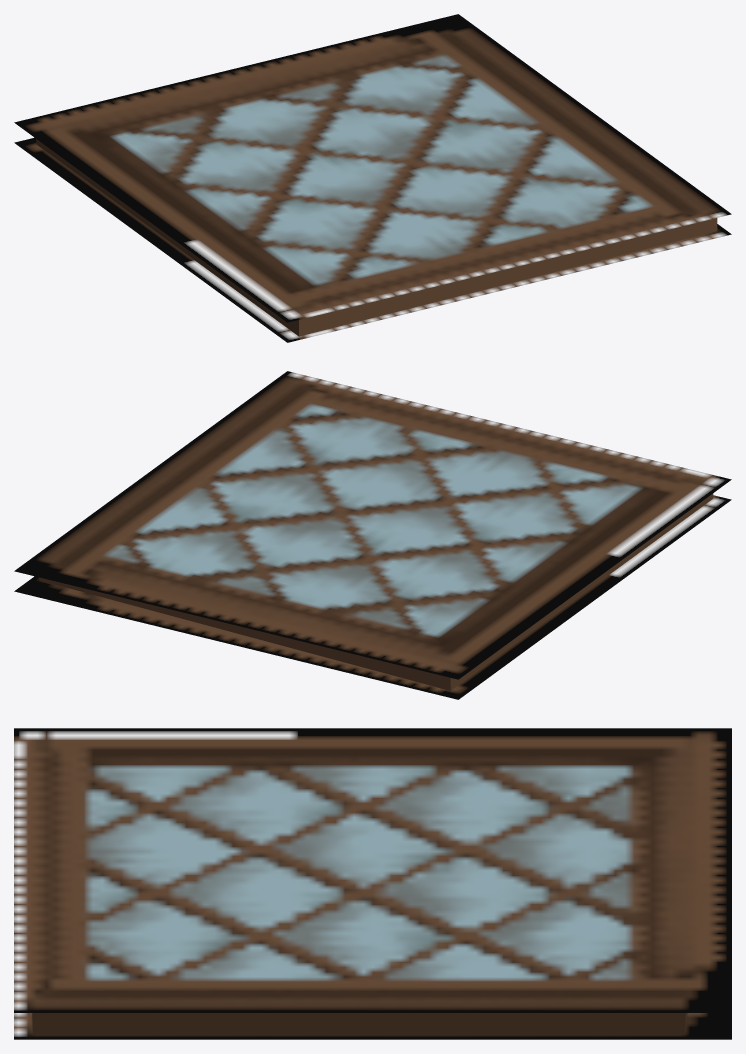
File: pz_native_fixtures_windows_church_29_frame.obj
The picture shows the model from 3 angles, top to bottom: view 1: azimuth 30°, elevation 25°; view 2: azimuth 150°, elevation 25°; view 3: azimuth 270°, elevation 25°; orthographic projection. The views are drawn at different scales.
Parts seen in each view (by area): view 1: pz_native_fixtures_windows_church_29_frame; view 2: pz_native_fixtures_windows_church_29_frame; view 3: pz_native_fixtures_windows_church_29_frame.
Part boxes in pixels (x1,y1,x2,y2): pz_native_fixtures_windows_church_29_frame: (14, 14, 731, 342); pz_native_fixtures_windows_church_29_frame: (14, 371, 731, 699); pz_native_fixtures_windows_church_29_frame: (14, 728, 731, 1039).
Size of the model in its own units: 0.9219 by 0.04 by 0.9823.
1 material, 1 textured.
